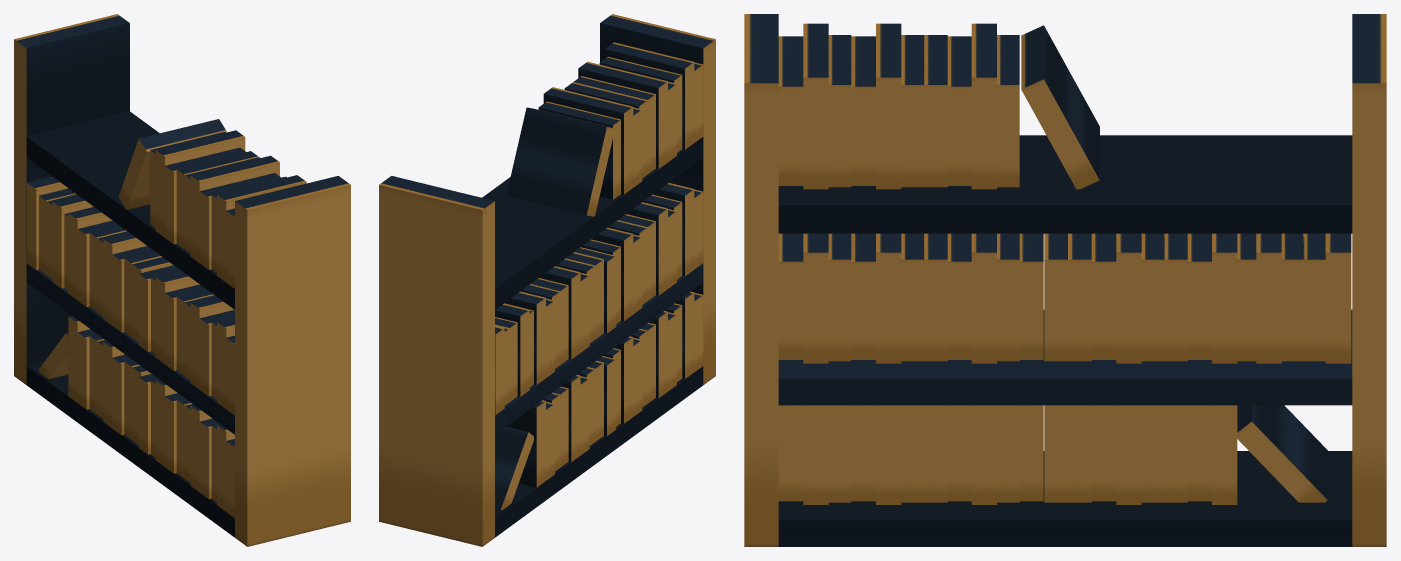
File: SOD_Bookcase_Asset.fbx
3 renders of one model, left to right at view 1: azimuth 30°, elevation 25°; view 2: azimuth 150°, elevation 25°; view 3: azimuth 270°, elevation 25°, orthographic. The views are drawn at different scales.
Parts seen in each view (by area): view 1: SOD_Bookcase_Asset; view 2: SOD_Bookcase_Asset; view 3: SOD_Bookcase_Asset.
Boxes of the visible parts, <box> form: SOD_Bookcase_Asset: <box>14,14,350,546</box>; SOD_Bookcase_Asset: <box>379,14,715,546</box>; SOD_Bookcase_Asset: <box>744,14,1386,546</box>.
Bounding box in the file's own units: 26.72 × 83.13 × 104.
1 material, 1 textured.
